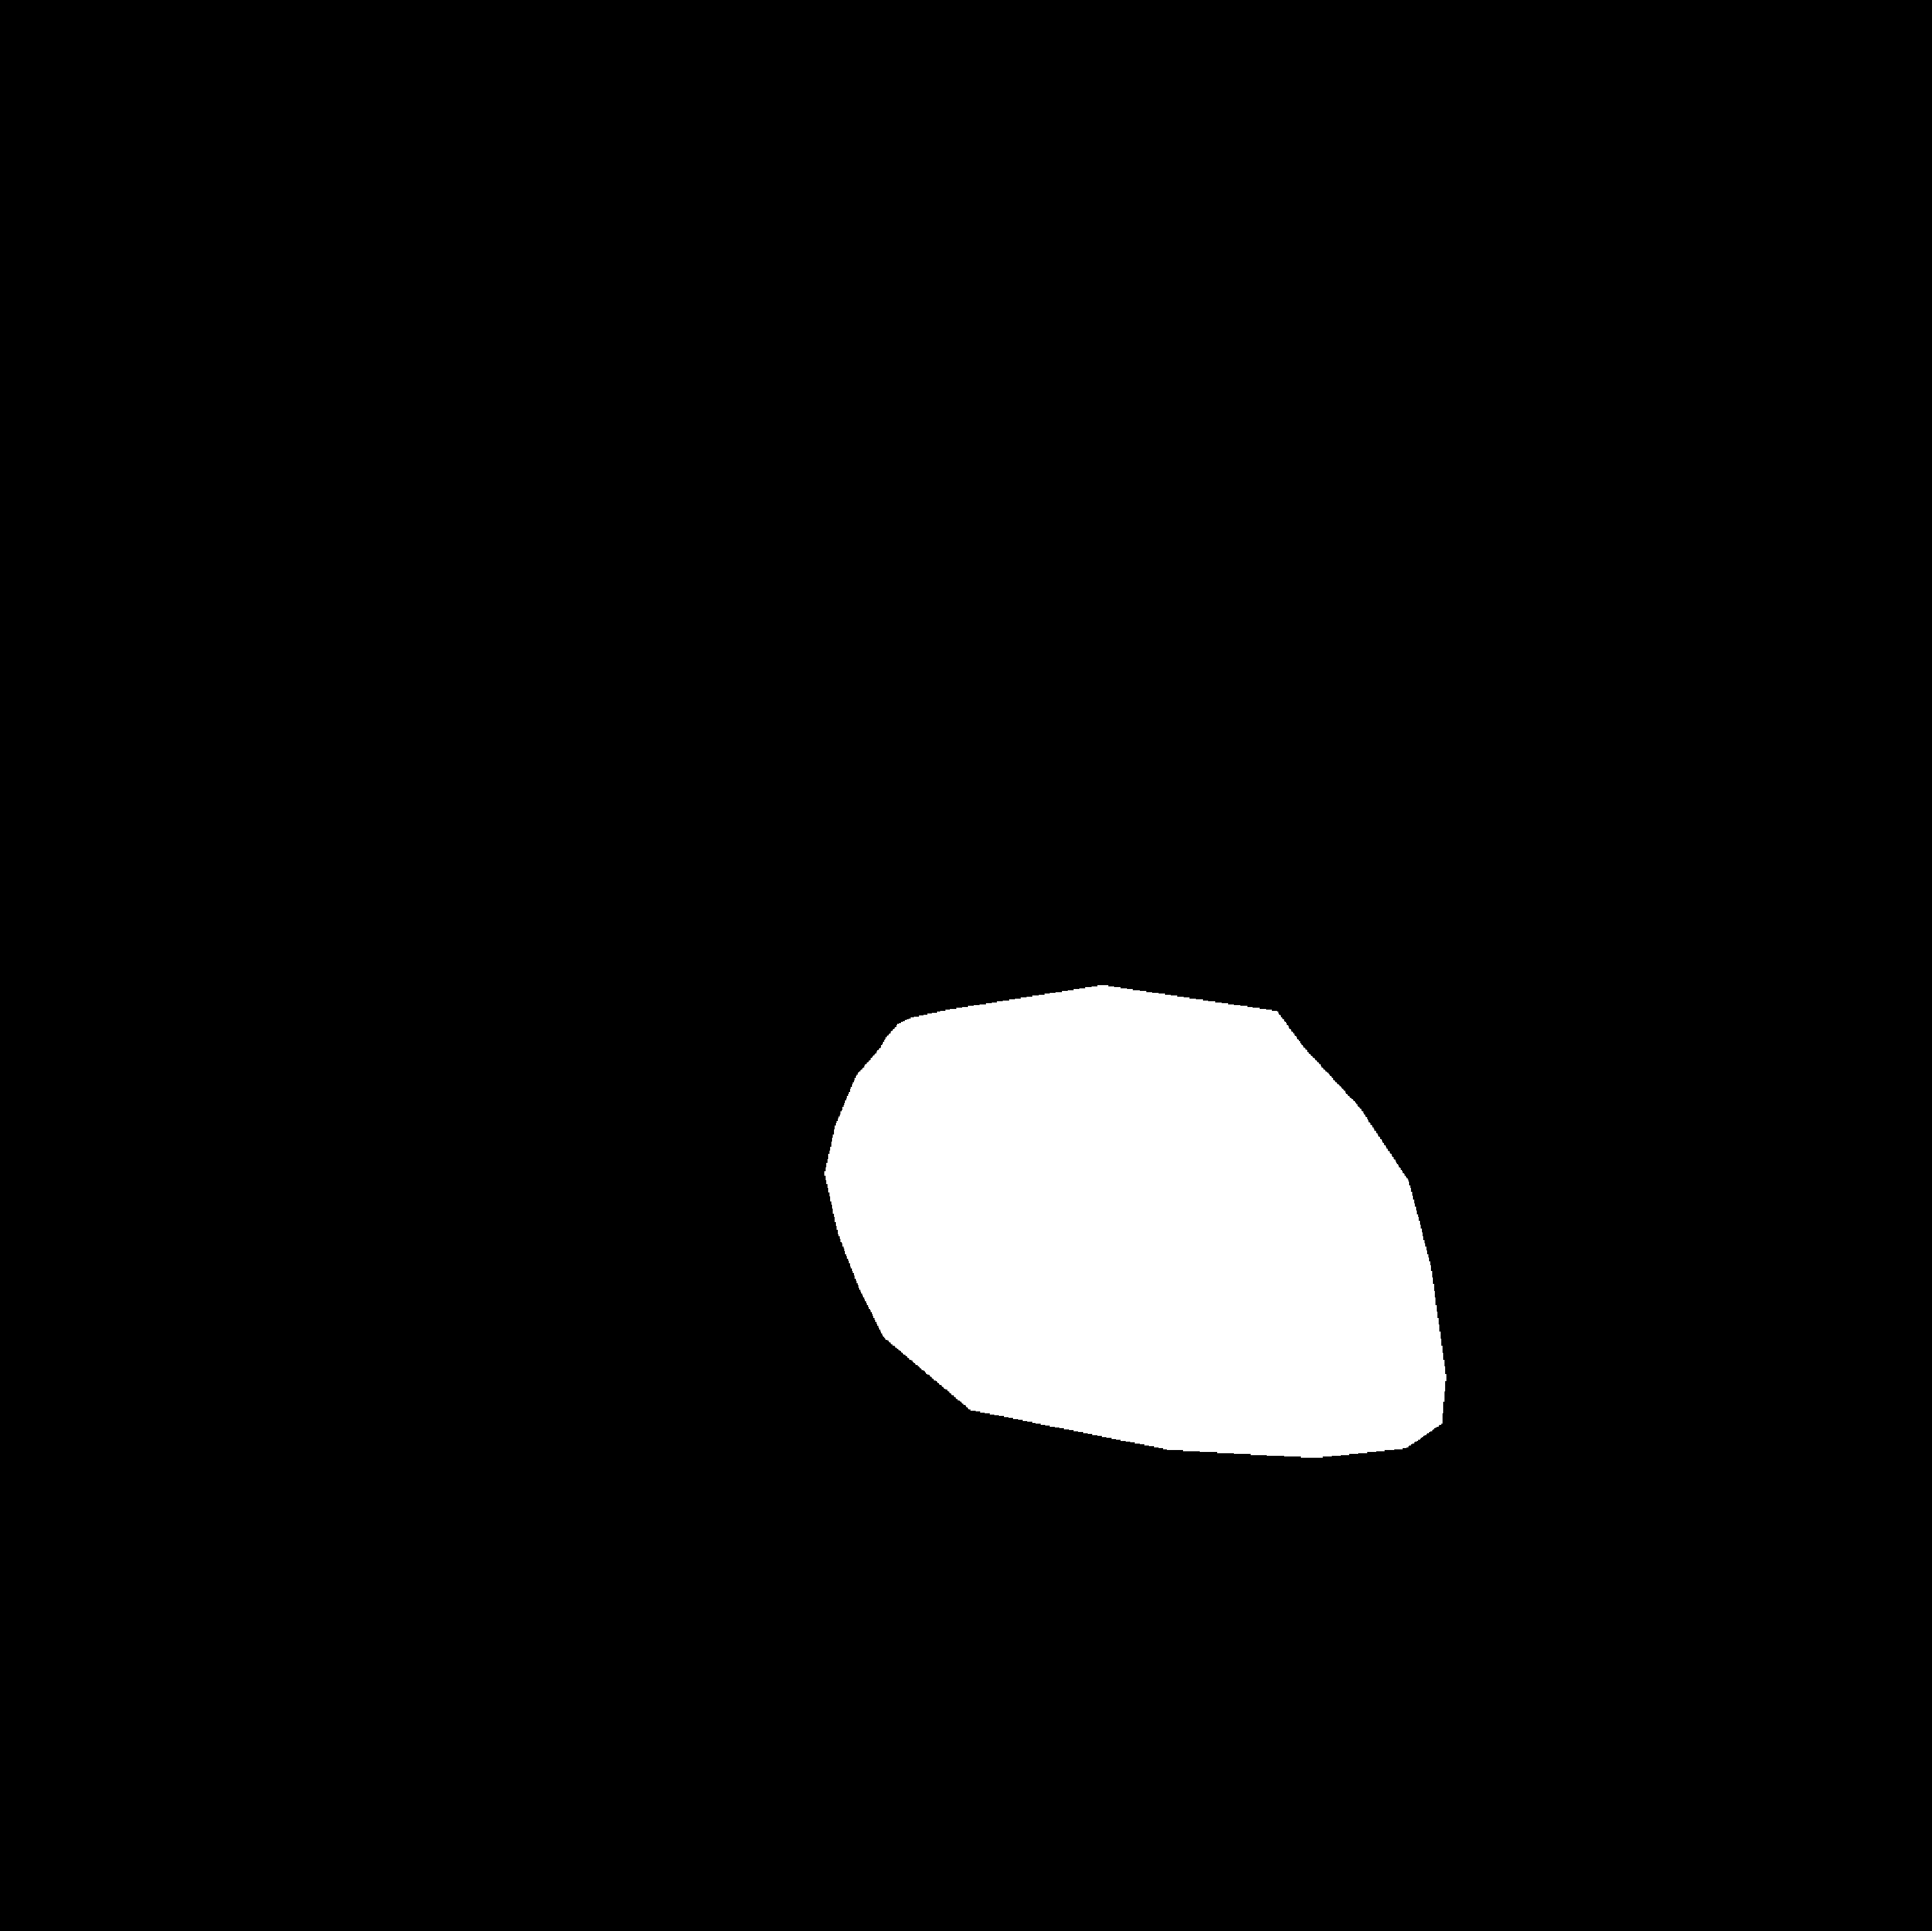heart: (826, 1013, 1447, 1459)
left_lung: (295, 334, 945, 1625)
right_lung: (1092, 368, 1707, 1622)
